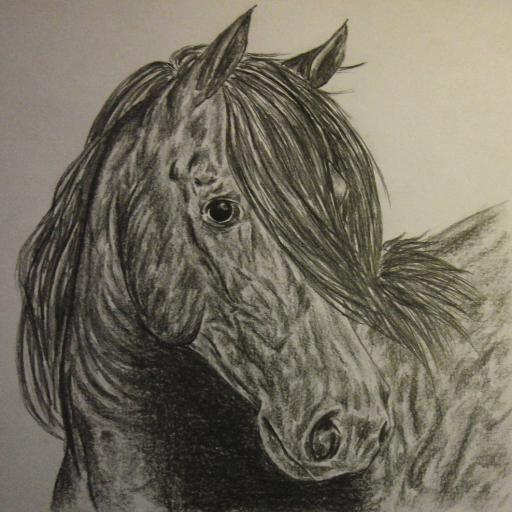horse: (13, 3, 512, 512)
